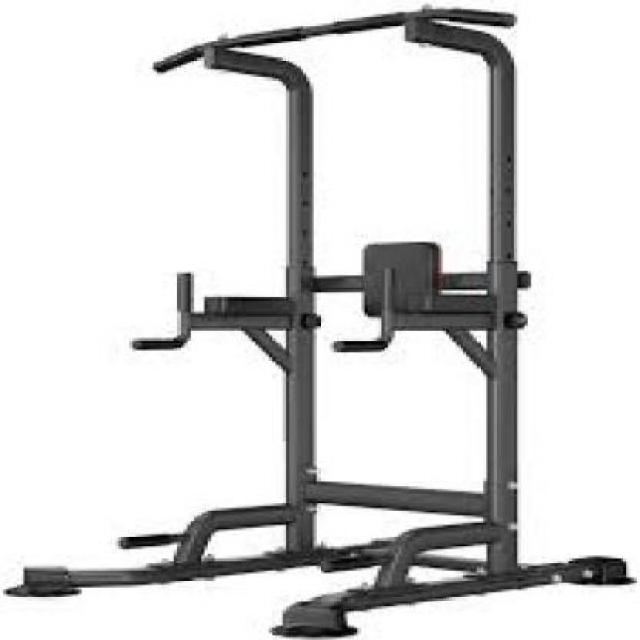chinning dipping: (0, 3, 634, 639)
